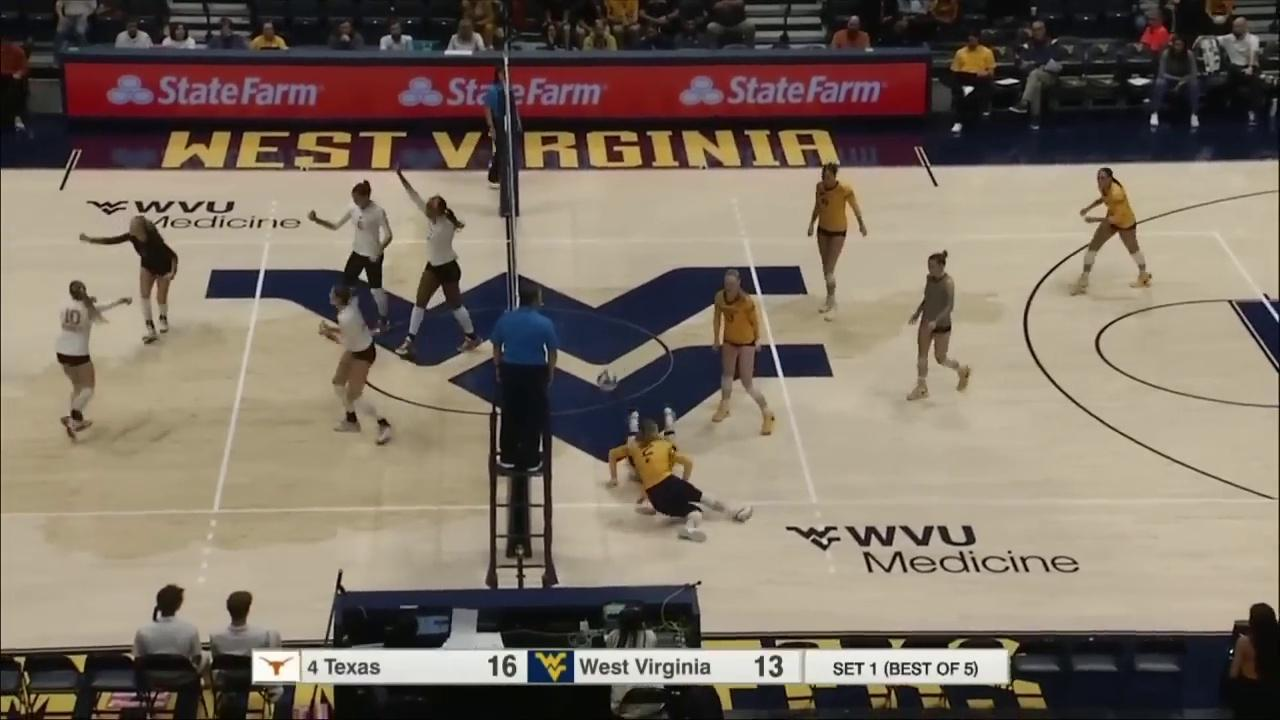player: (394, 165, 483, 354), (609, 422, 755, 537), (78, 215, 181, 342), (311, 179, 395, 333), (54, 279, 133, 441), (323, 287, 395, 443), (1070, 168, 1153, 296), (908, 250, 973, 402), (807, 163, 869, 321), (715, 271, 775, 433), (627, 407, 695, 515)
refree: (493, 285, 559, 467), (487, 67, 522, 187)
